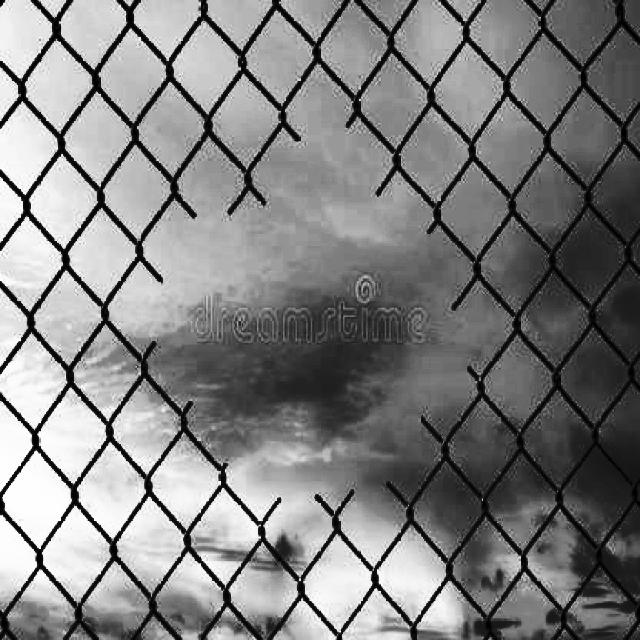anomaly-fence: (122, 96, 505, 516)
